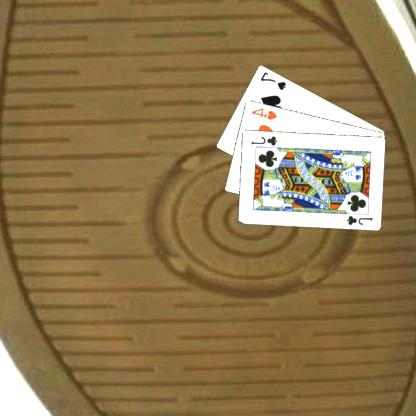4H: (250, 105, 280, 121)
7S: (259, 69, 289, 92)
JC: (345, 212, 376, 226), (250, 132, 280, 146)
